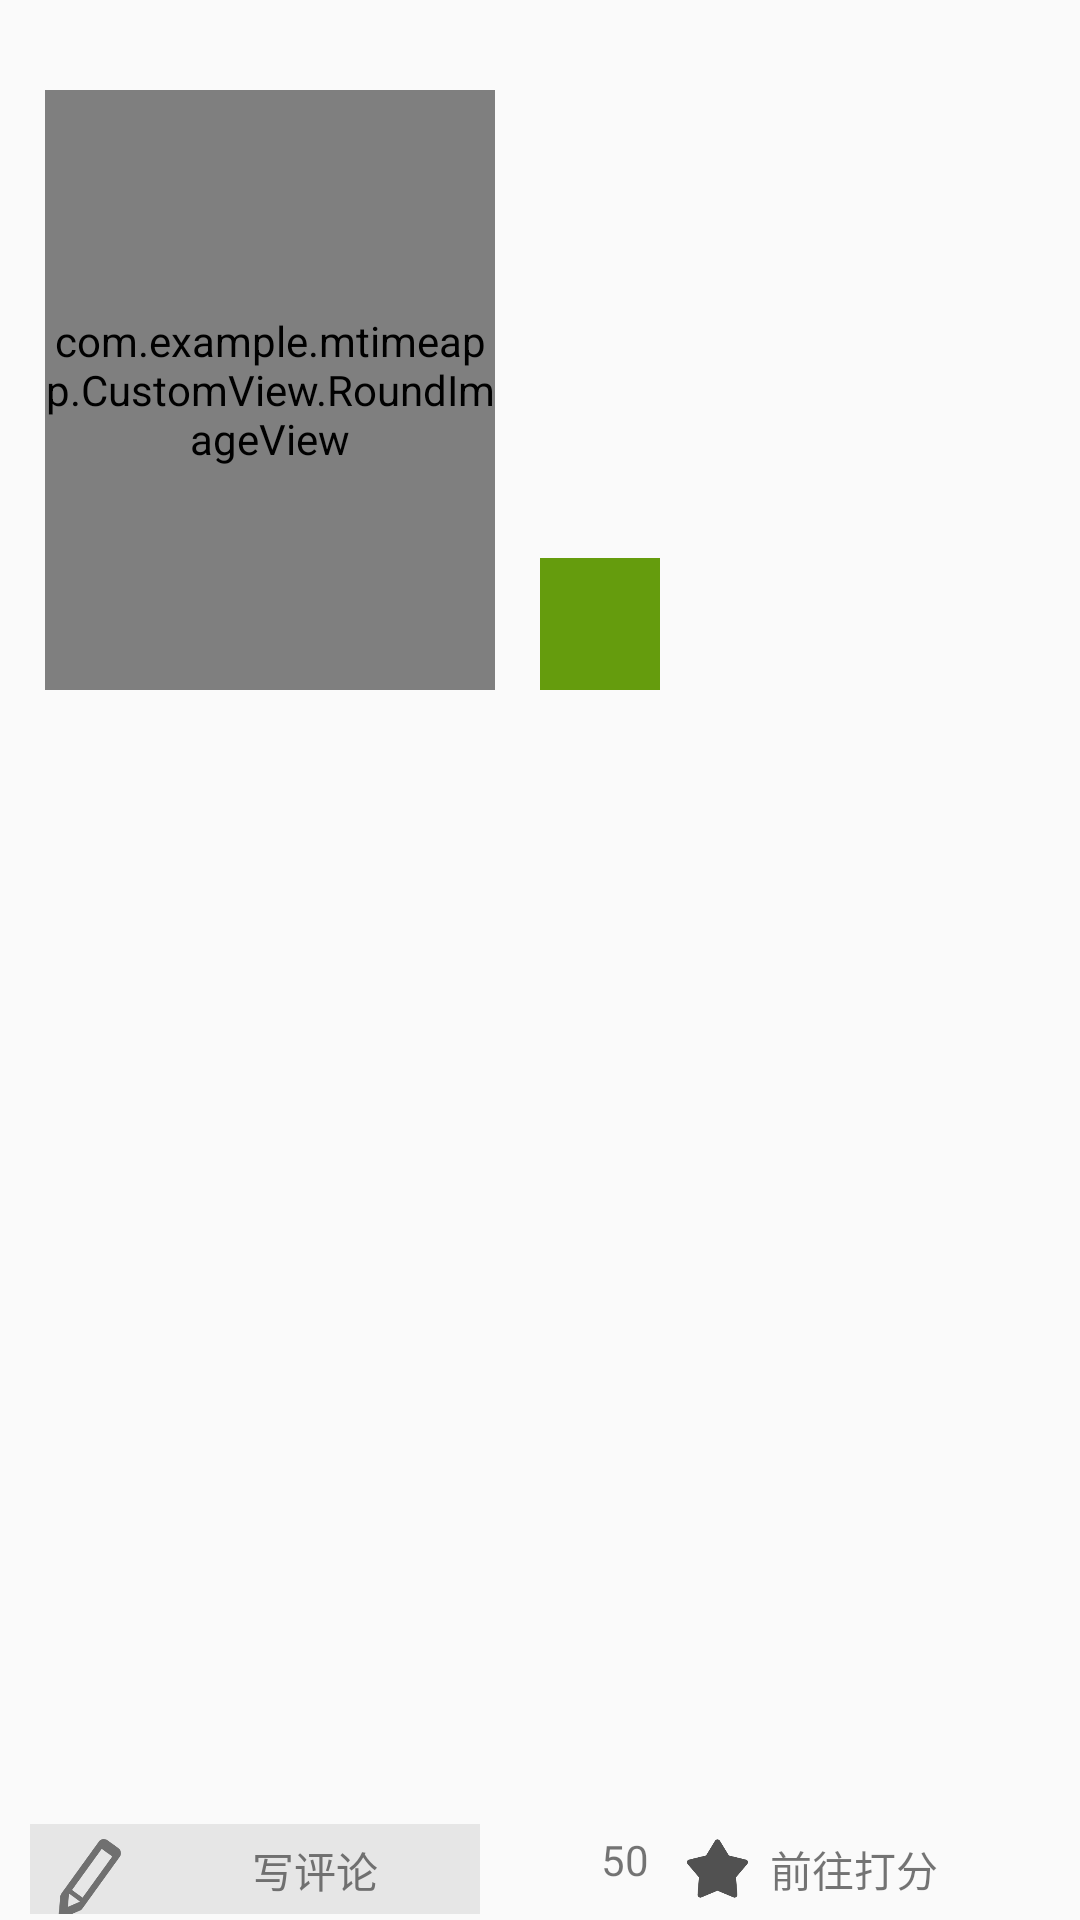

Named icons in this screenshot (1080px×1920px) and their bounding boxes, (x1, y1, x2, y2):
dafen: (687, 1839, 748, 1898)
